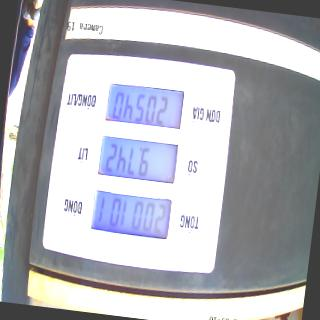screen: (88, 78, 189, 244)
